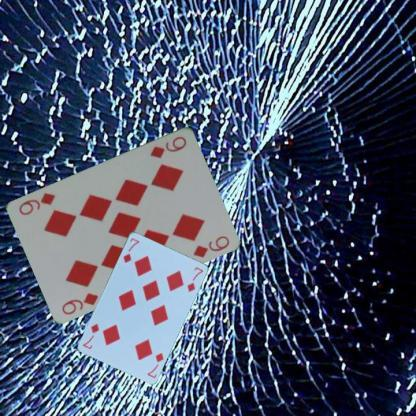7d: (144, 350, 165, 379), (120, 235, 140, 264)
9d: (58, 290, 100, 316), (148, 134, 188, 160)
